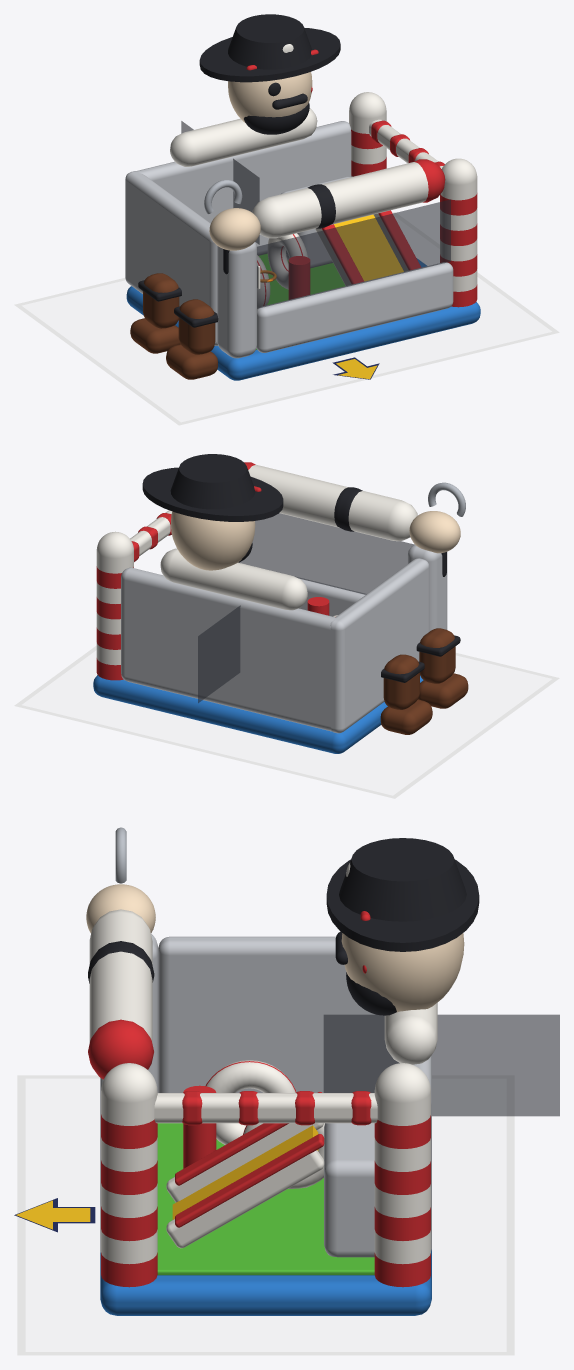
File: castillo-pirata-v1.glb
3 views of the same model, one above another, from view 1: azimuth 30°, elevation 25°; view 2: azimuth 150°, elevation 25°; view 3: azimuth 270°, elevation 25° (orthographic). The views are drawn at different scales.
Parts seen in each view (by area): view 1: gris, espacio, blanco, malla, negro, rojo, azul, cafe, crema, borde, amarillo, verde (+1 smaller); view 2: gris, espacio, blanco, malla, negro, azul, cafe, crema, borde, rojo, plata; view 3: espacio, gris, blanco, rojo, malla, negro, verde, azul, crema, borde, amarillo, plata.
Part boxes in pixels (left/top/right/bottom): gris: left=125, top=121, right=453, bottom=358; espacio: left=22, top=277, right=551, bottom=421; blanco: left=170, top=44, right=477, bottom=309; malla: left=181, top=121, right=450, bottom=308; negro: left=138, top=14, right=340, bottom=327; rojo: left=246, top=49, right=477, bottom=307; azul: left=126, top=258, right=480, bottom=380; cafe: left=130, top=273, right=217, bottom=379; crema: left=209, top=72, right=312, bottom=250; borde: left=14, top=212, right=559, bottom=425; amarillo: left=334, top=214, right=403, bottom=379; verde: left=256, top=254, right=344, bottom=349; gris: left=121, top=544, right=447, bottom=733; espacio: left=22, top=651, right=551, bottom=795; blanco: left=96, top=464, right=417, bottom=665; malla: left=198, top=513, right=413, bottom=702; negro: left=142, top=454, right=460, bottom=682; azul: left=93, top=675, right=423, bottom=753; cafe: left=380, top=628, right=468, bottom=734; crema: left=171, top=511, right=460, bottom=570; borde: left=14, top=645, right=559, bottom=798; rojo: left=96, top=462, right=329, bottom=680; plata: left=428, top=482, right=465, bottom=516; espacio: left=26, top=1079, right=506, bottom=1351; gris: left=100, top=934, right=431, bottom=1257; blanco: left=89, top=863, right=437, bottom=1264; rojo: left=88, top=911, right=430, bottom=1287; malla: left=323, top=1014, right=559, bottom=1116; negro: left=88, top=838, right=479, bottom=1015; verde: left=157, top=1123, right=374, bottom=1275; azul: left=100, top=1249, right=431, bottom=1315; crema: left=86, top=884, right=464, bottom=1012; borde: left=17, top=1075, right=514, bottom=1355; amarillo: left=16, top=1125, right=318, bottom=1229; plata: left=115, top=827, right=126, bottom=883.
Size of the model in its own units: 8 by 5.03 by 6.59.
